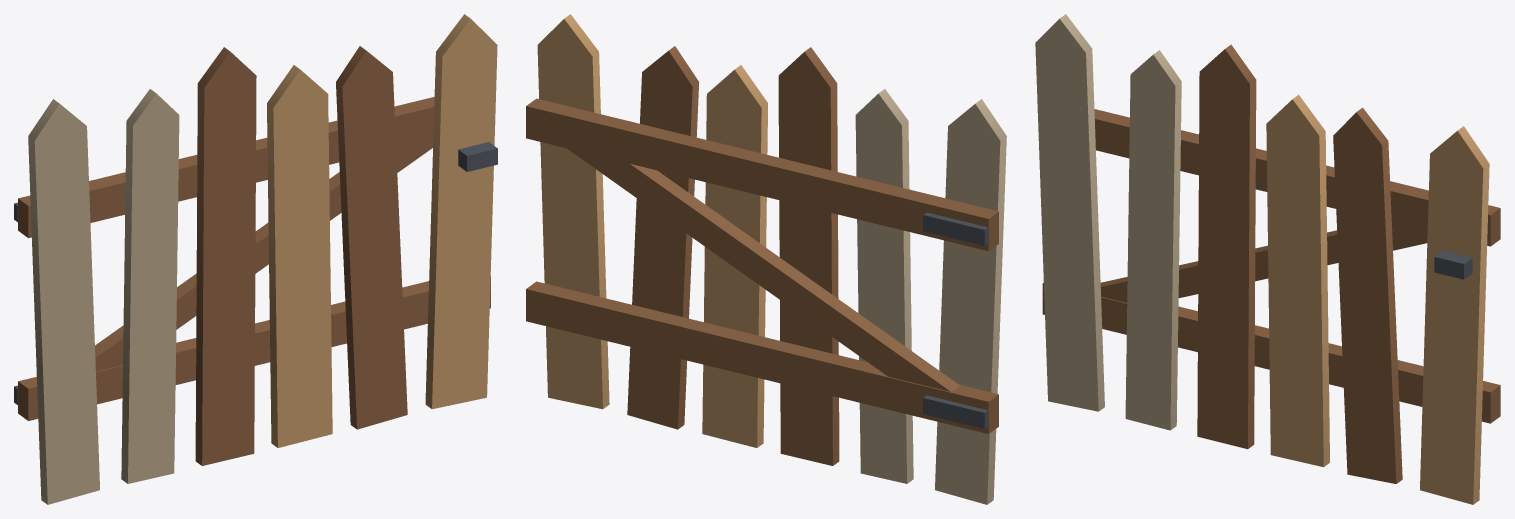
Rendered from fence-picket-gate.lod1.glb.
The picture shows the model from 3 angles, left to right: view 1: azimuth 30°, elevation 25°; view 2: azimuth 150°, elevation 25°; view 3: azimuth 330°, elevation 25°; orthographic projection. The views are drawn at different scales.
Parts seen in each view (by area): view 1: fence-picket-gate_lod1; view 2: fence-picket-gate_lod1; view 3: fence-picket-gate_lod1.
Boxes of the visible parts, x1,y1,x2,y2 form: fence-picket-gate_lod1: (14, 14, 497, 504); fence-picket-gate_lod1: (526, 14, 1006, 504); fence-picket-gate_lod1: (1035, 14, 1500, 504).
Bounding box in the file's own units: 0.9015 × 0.76 × 0.106.
